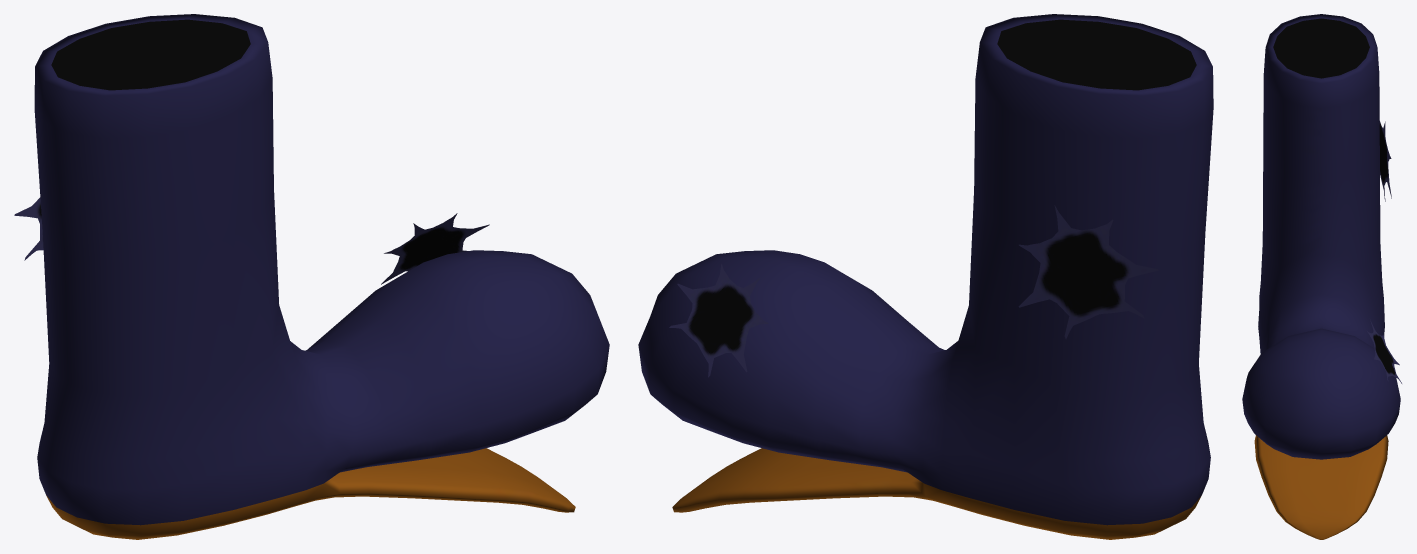
The model's file is 2D_kutu.fbx.
3 renders of one model, left to right at view 1: azimuth 30°, elevation 25°; view 2: azimuth 150°, elevation 25°; view 3: azimuth 270°, elevation 25°, orthographic. The views are drawn at different scales.
Parts seen in each view (by area): view 1: polySurface7; view 2: polySurface7; view 3: polySurface7.
Boxes of the visible parts, box(x1,y1,x2,y2) form: polySurface7: box(14, 14, 609, 539); polySurface7: box(638, 14, 1213, 539); polySurface7: box(1242, 14, 1401, 539).
Bounding box in the file's own units: 2.45 × 2.33 × 0.9376.
